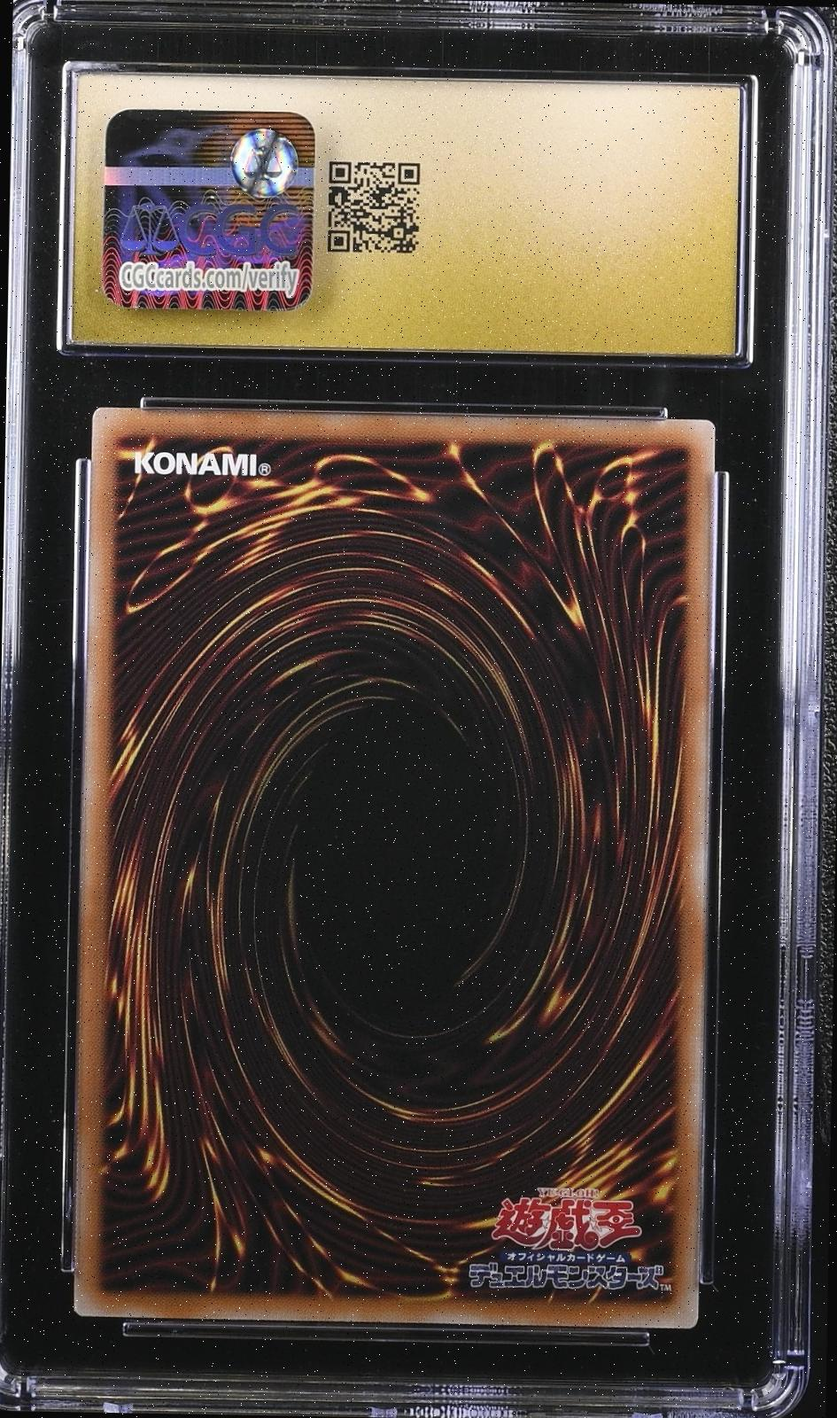card-2UtV: (72, 405, 715, 1329)
